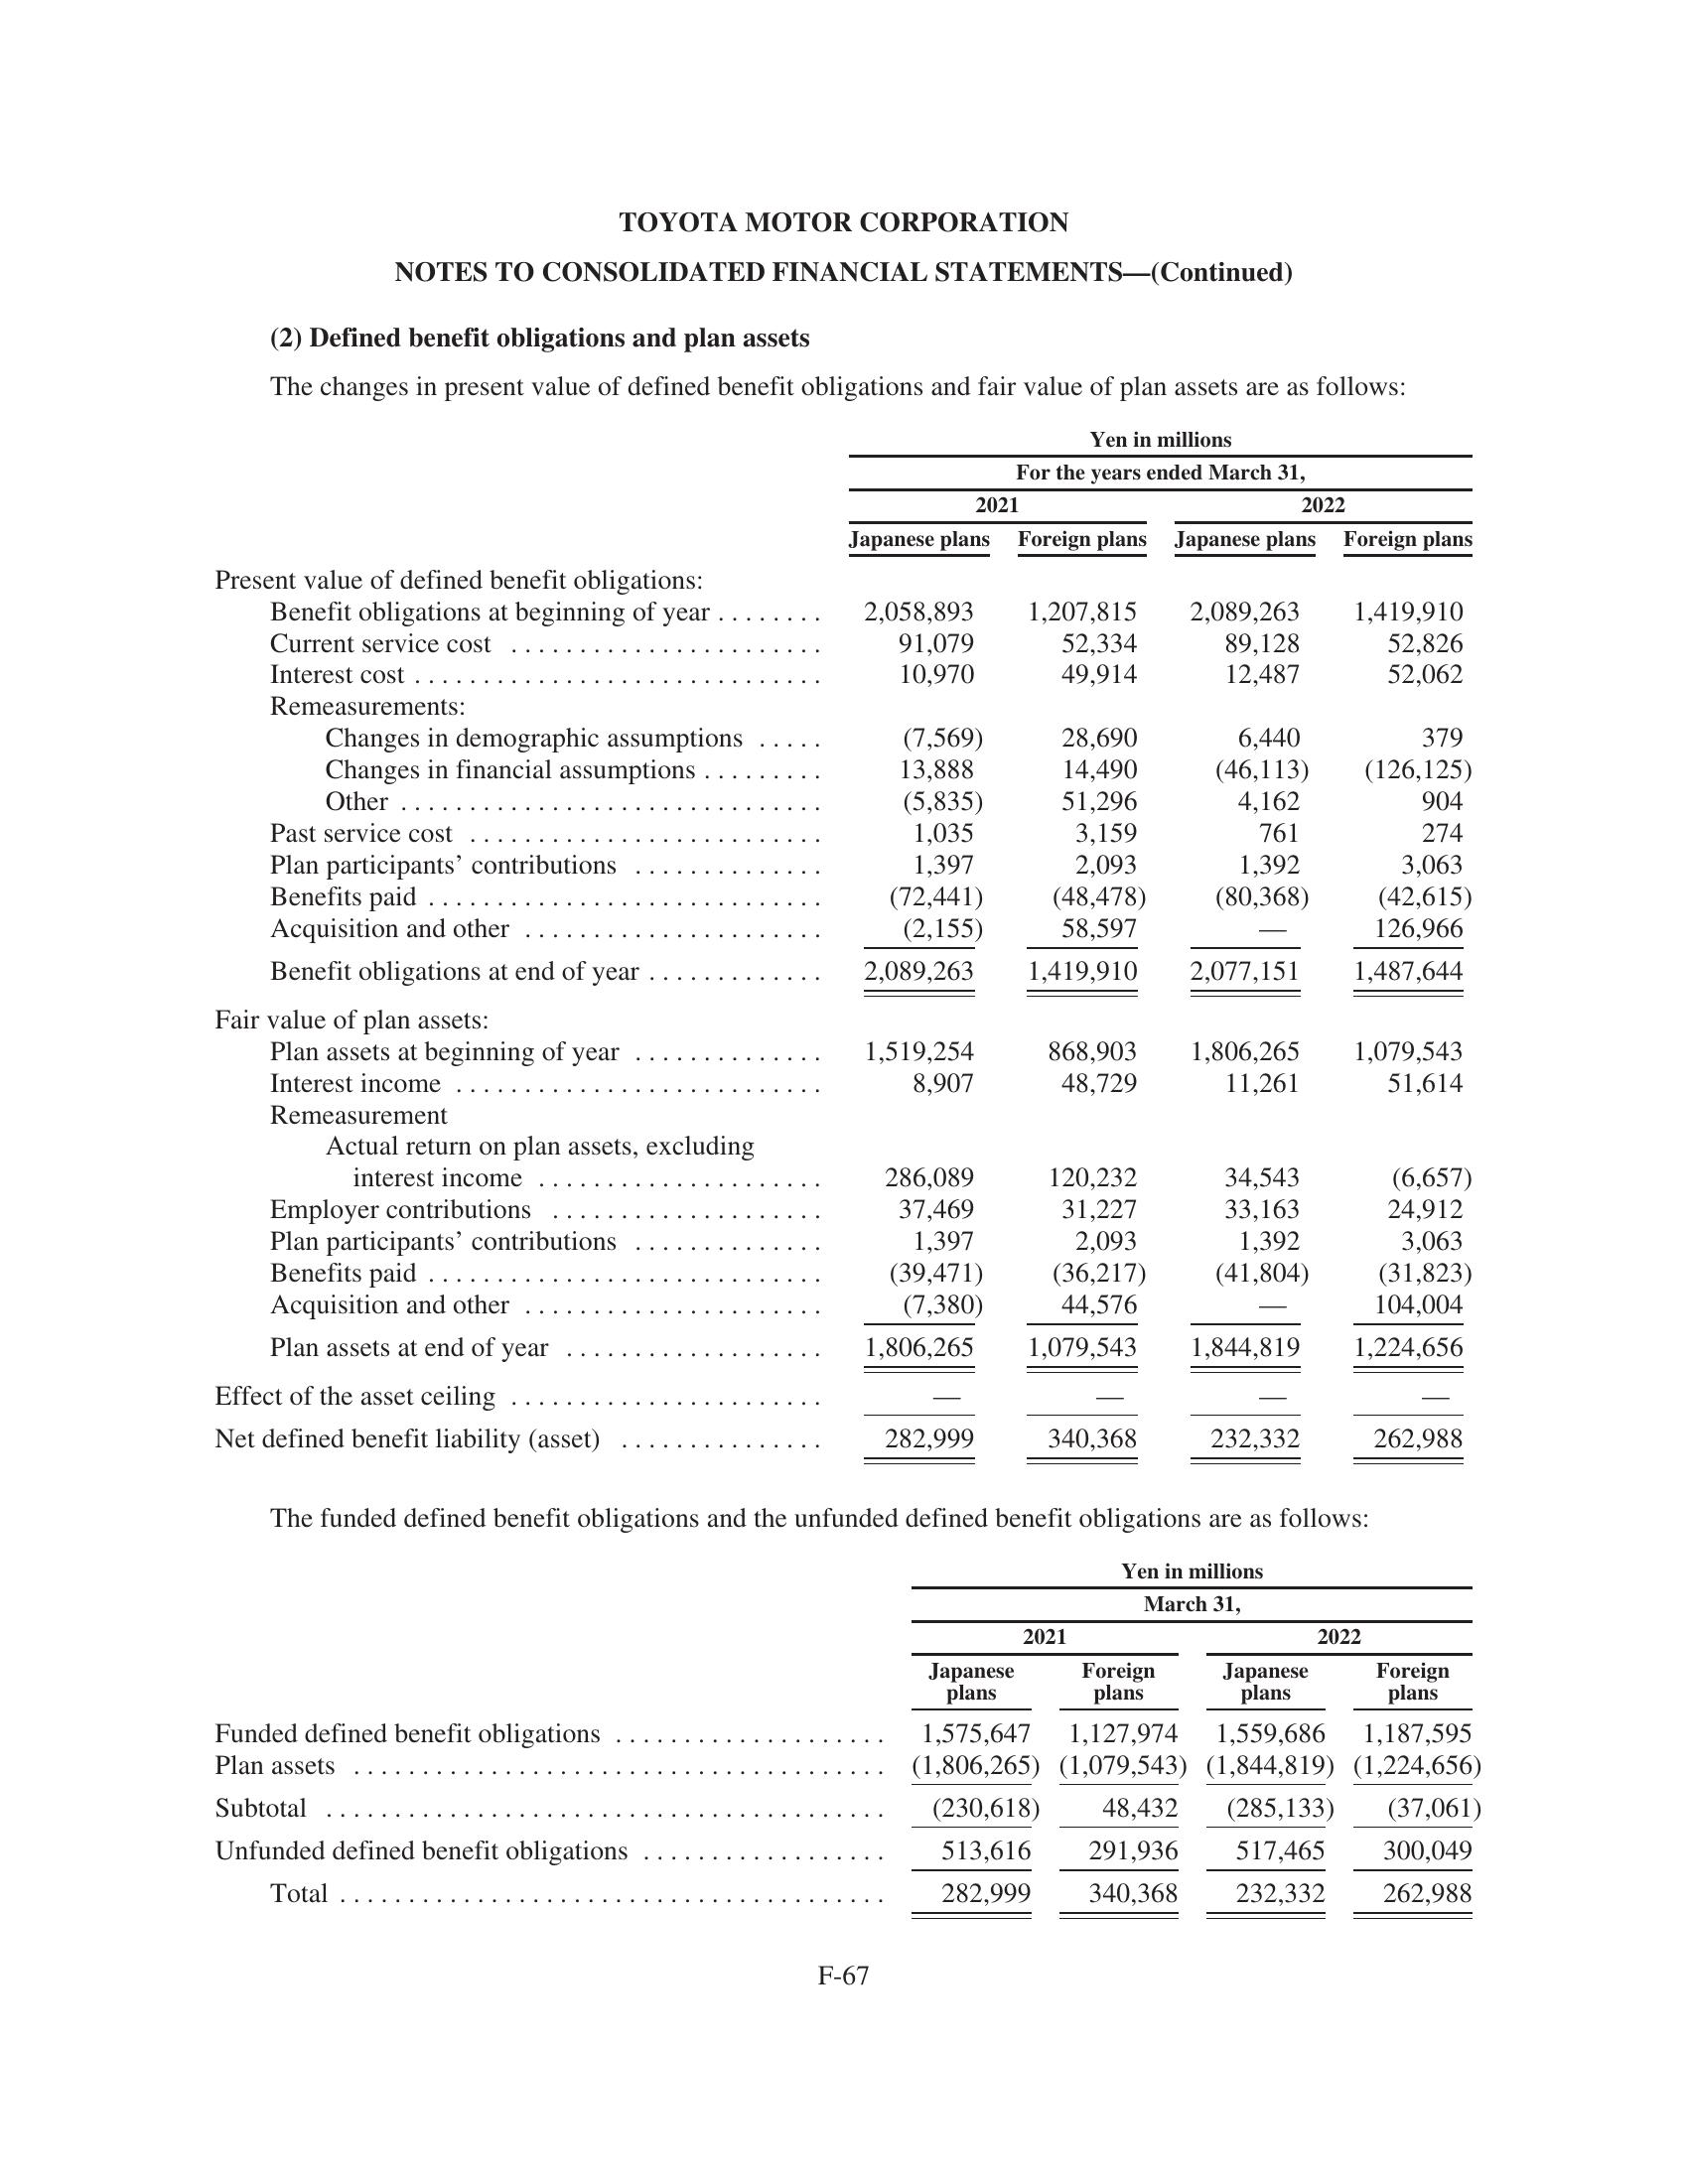Footer: (0, 1954, 1688, 2184)
Header: (0, 0, 1688, 179)
Table: (124, 413, 1495, 1464), (94, 1540, 1512, 1929)
